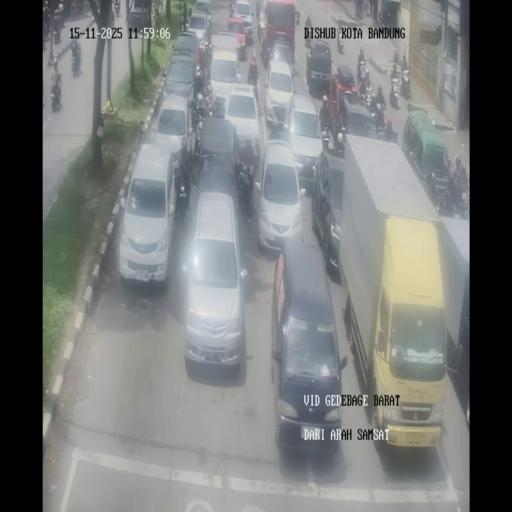car: (271, 240, 343, 451), (182, 191, 247, 371), (118, 144, 178, 286), (401, 110, 452, 209), (314, 145, 346, 275), (286, 94, 324, 188), (153, 95, 192, 179), (195, 113, 237, 189), (208, 46, 242, 113), (163, 52, 198, 109), (306, 41, 332, 95), (267, 38, 295, 78), (225, 16, 249, 58), (186, 11, 211, 45), (128, 0, 152, 33)
motorcycle: (447, 173, 469, 218), (235, 164, 254, 216), (174, 173, 190, 222), (332, 112, 346, 150), (258, 22, 270, 66), (247, 76, 260, 114), (360, 79, 375, 111), (379, 120, 398, 143), (200, 39, 212, 75), (399, 65, 411, 99), (193, 62, 204, 98), (269, 119, 286, 142), (389, 77, 400, 109), (51, 80, 62, 112), (304, 14, 313, 48), (71, 46, 81, 76), (357, 58, 368, 85), (53, 12, 63, 41), (320, 124, 330, 150), (179, 10, 189, 34), (257, 0, 267, 23), (42, 14, 50, 41), (61, 0, 71, 17), (337, 30, 344, 54), (110, 0, 115, 23), (229, 0, 235, 18), (114, 0, 120, 17), (76, 0, 83, 14), (157, 0, 163, 14)
truck: (336, 141, 461, 447), (380, 0, 402, 27)
